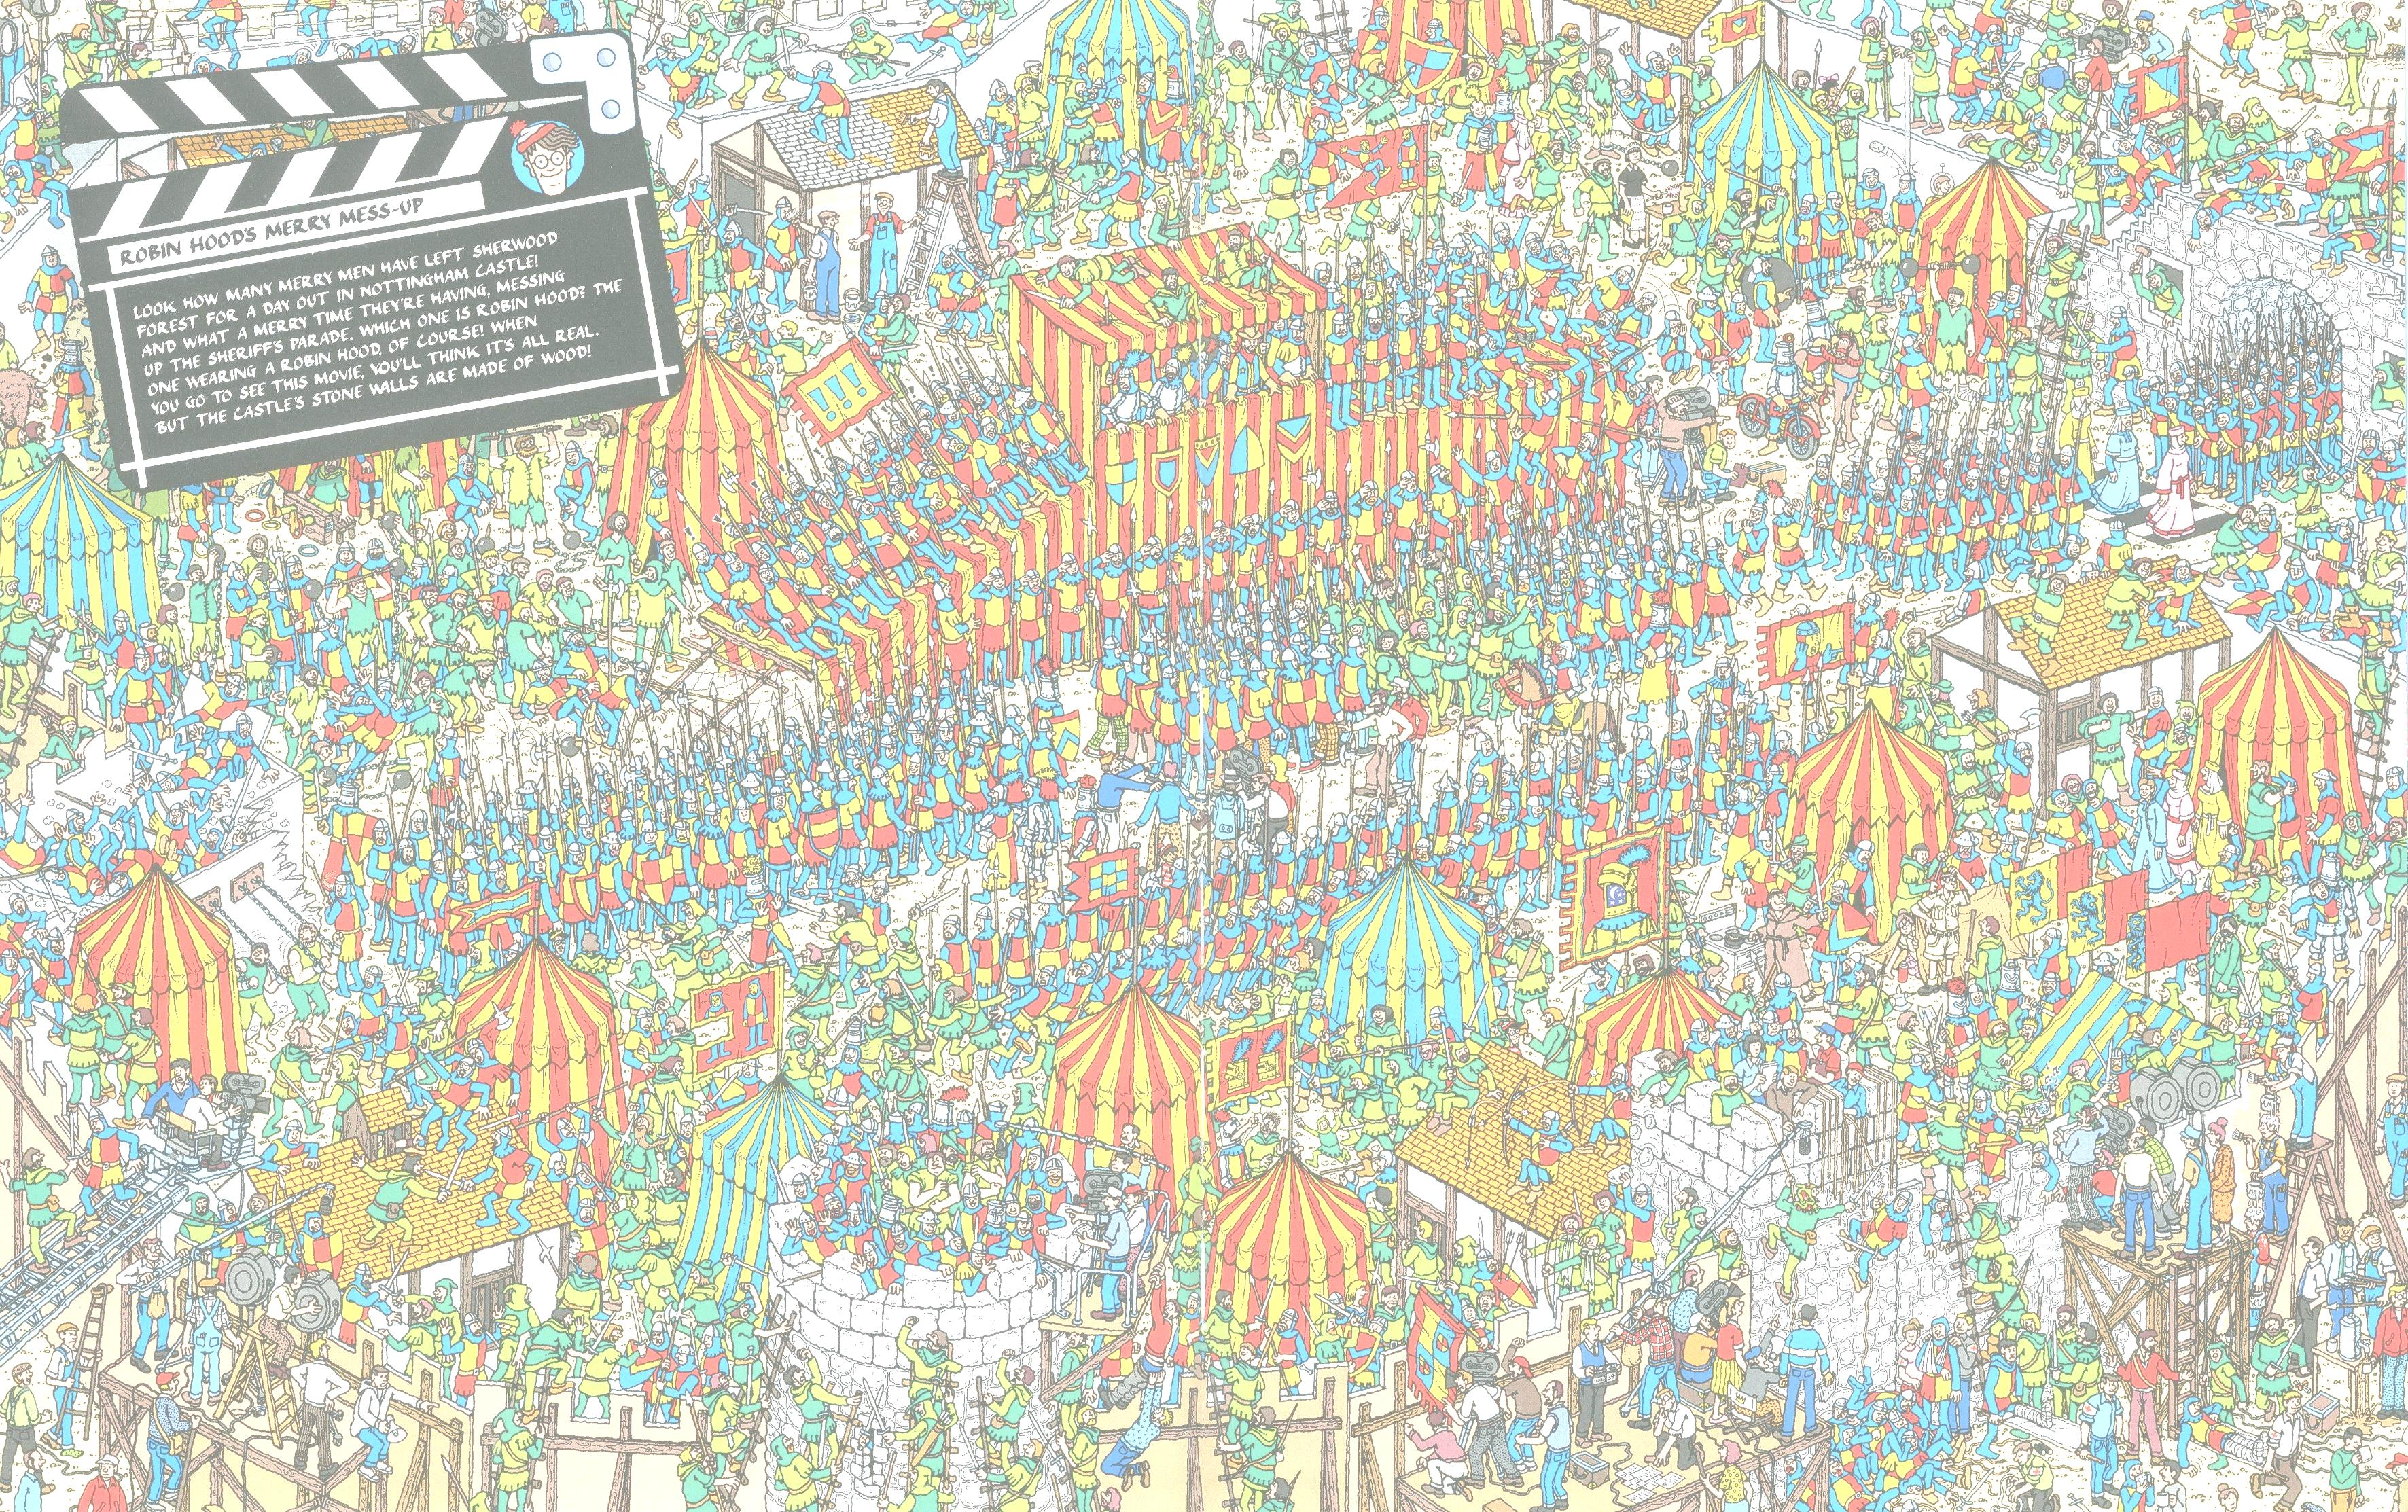waldos: (1497, 1019, 1523, 1056)
